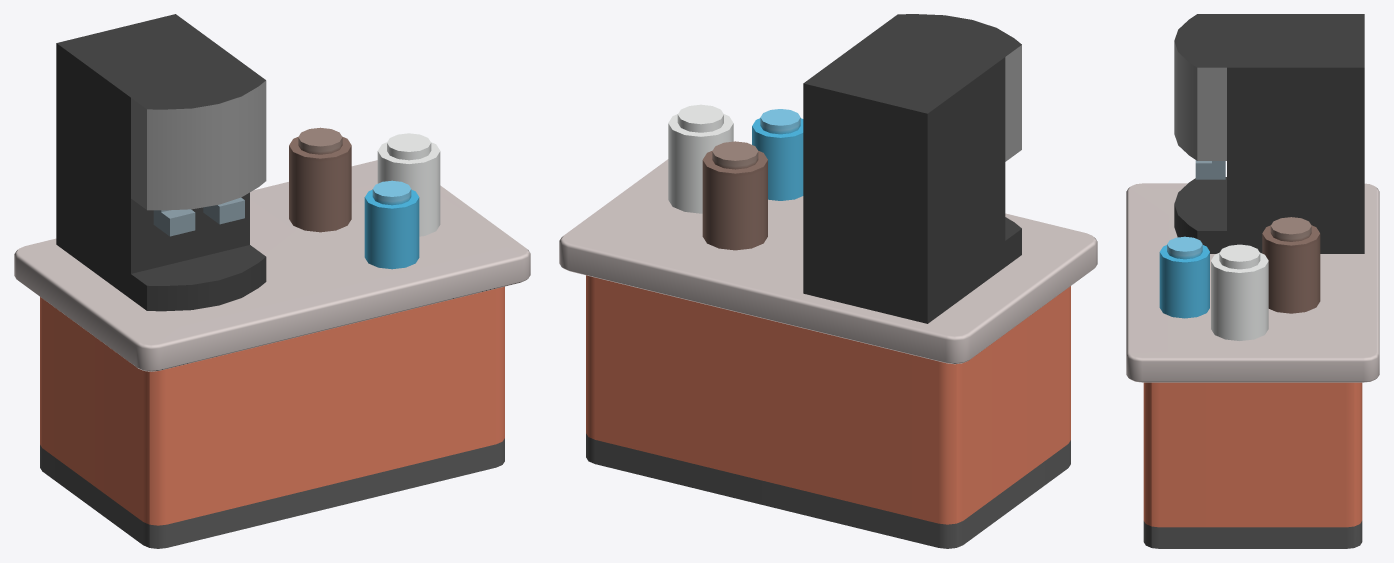
Rendered from Corwd_CoffeeTable_01.fbx.
The picture shows the model from 3 angles, left to right: view 1: azimuth 30°, elevation 25°; view 2: azimuth 150°, elevation 25°; view 3: azimuth 270°, elevation 25°; orthographic projection. The views are drawn at different scales.
Visible parts, largest first — view 1: Corwd_CoffeeTable_01; view 2: Corwd_CoffeeTable_01; view 3: Corwd_CoffeeTable_01.
Part boxes in pixels (box(x1,y1,x2,y2)): Corwd_CoffeeTable_01: box(14, 14, 530, 548); Corwd_CoffeeTable_01: box(559, 14, 1097, 548); Corwd_CoffeeTable_01: box(1126, 14, 1379, 548).
Size of the model in its own units: 262 by 265 by 158.
